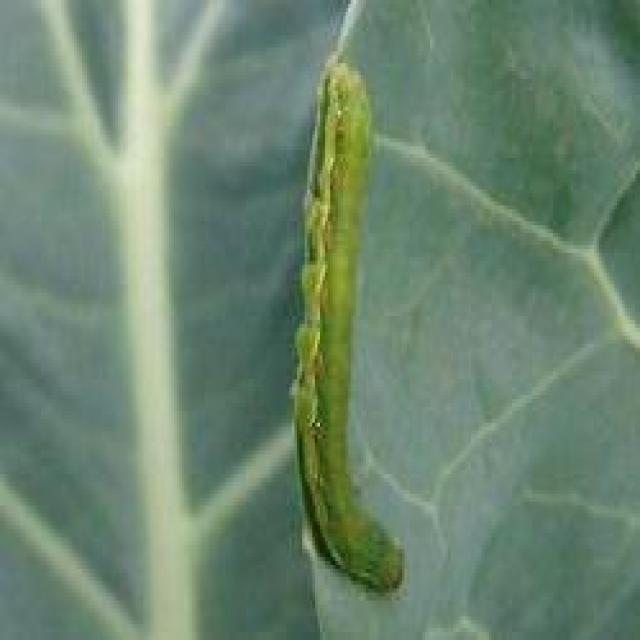BeetArmyWorm-Larva-: (288, 49, 410, 600)
